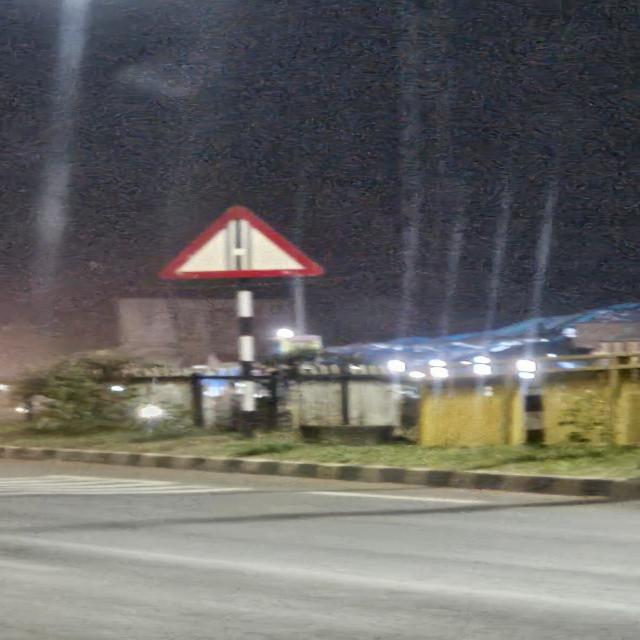gap_in_median: (159, 204, 327, 279)
